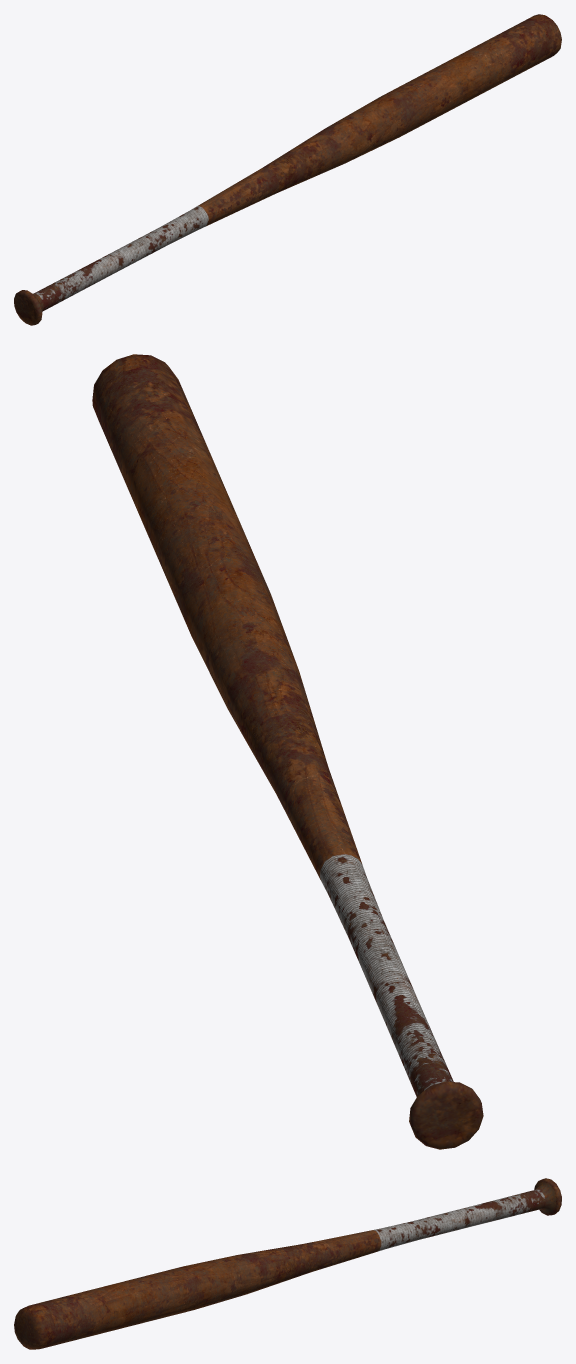
The model's file is Anim_idle_bate_objetos.0036.obj.
The picture shows the model from 3 angles, top to bottom: view 1: azimuth 90°, elevation 25°; view 2: azimuth 150°, elevation 25°; view 3: azimuth 270°, elevation 25°; orthographic projection. The views are drawn at different scales.
Visible parts, largest first — view 1: Bate1; view 2: Bate1; view 3: Bate1.
Part boxes in pixels (x1,y1,x2,y2): Bate1: [14, 14, 561, 325]; Bate1: [92, 354, 483, 1149]; Bate1: [14, 1178, 561, 1349].
Size of the model in its own units: 3.79 by 0.8814 by 4.07.
